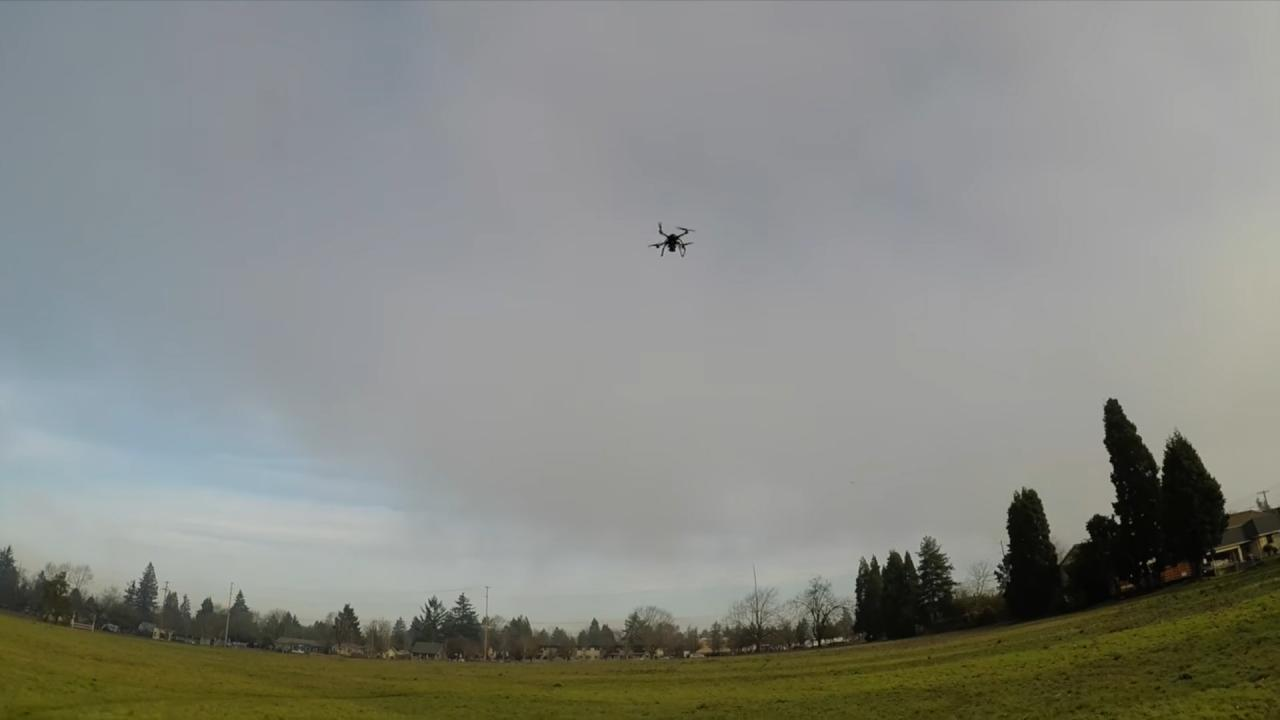Drone: (644, 218, 701, 264)
